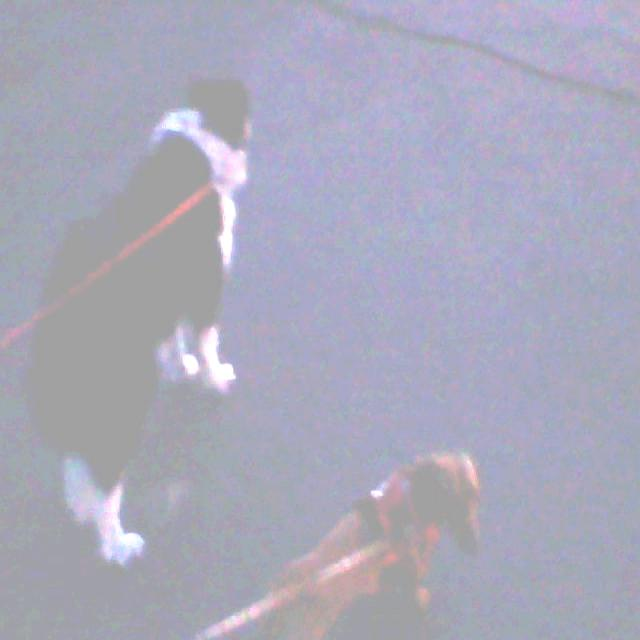Dog: (36, 93, 293, 579)
